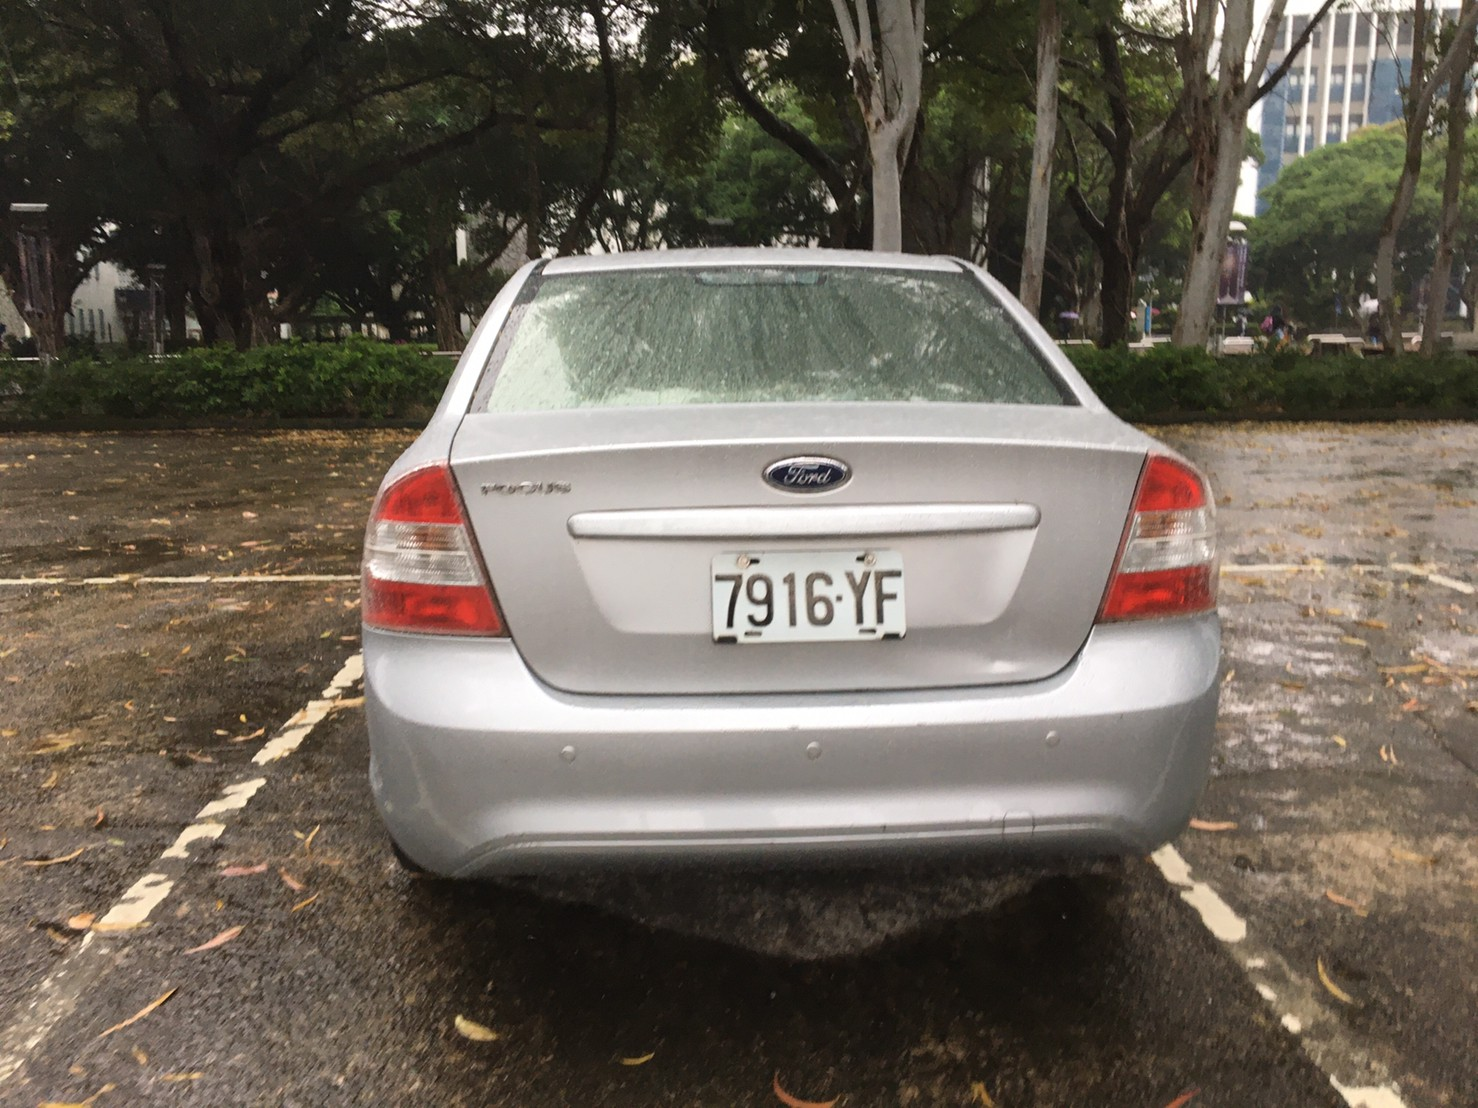LP: (704, 549, 916, 649)
